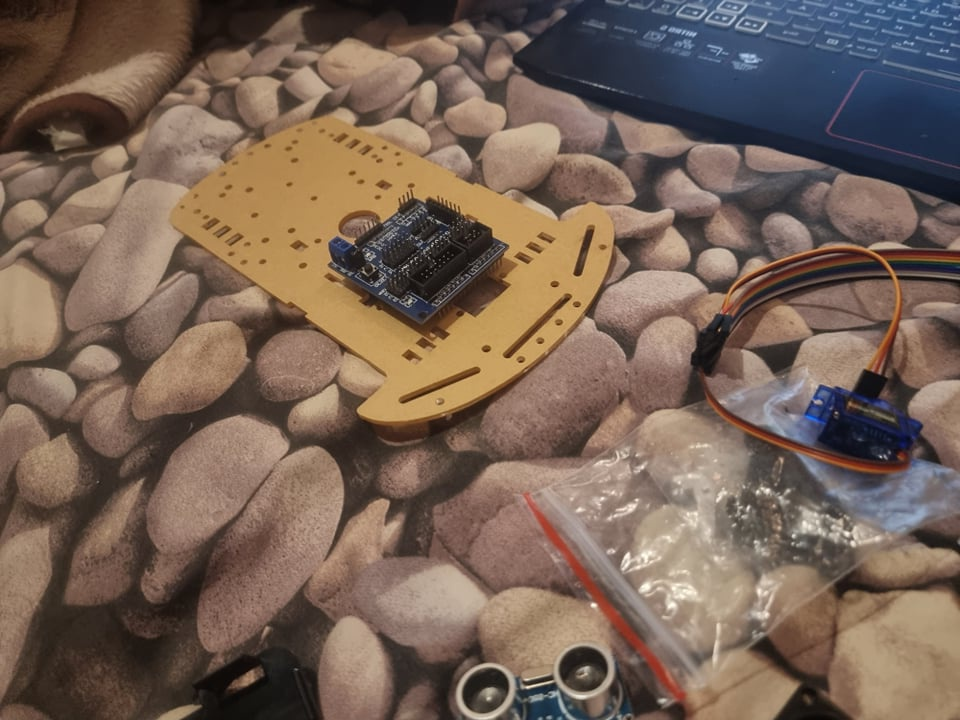5V EXPANSION: (329, 190, 509, 328)
SENSOR: (450, 644, 639, 720)
